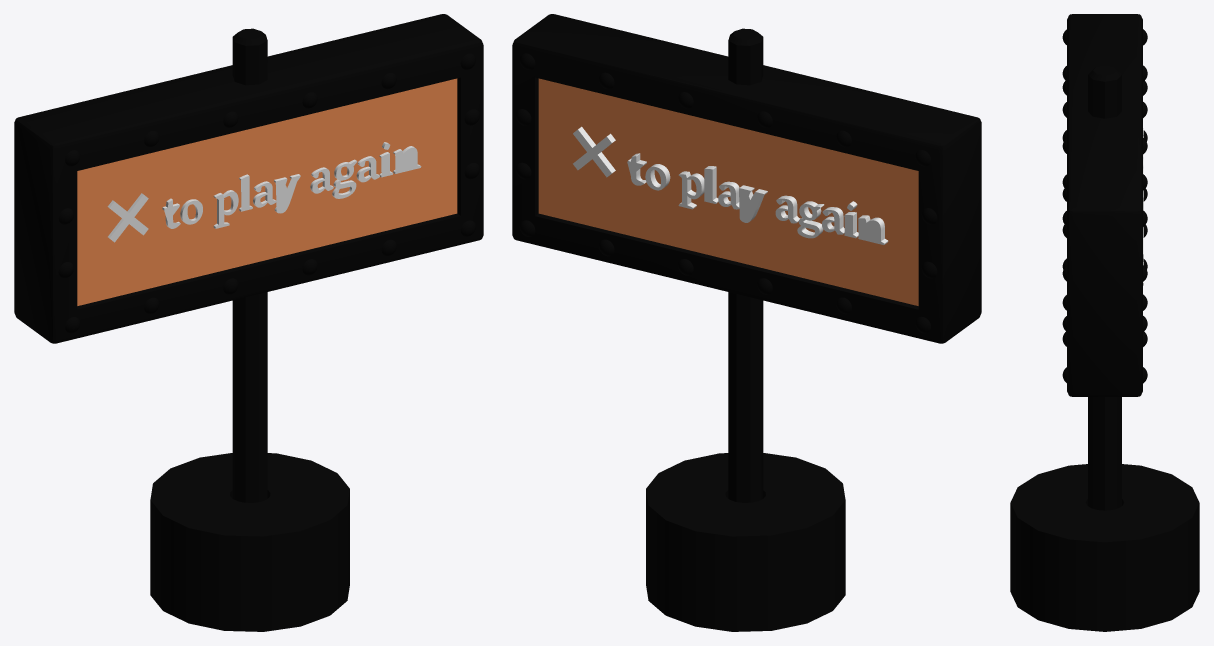
File: sign 4.fbx
3 views of the same model, side by side, from view 1: azimuth 30°, elevation 25°; view 2: azimuth 150°, elevation 25°; view 3: azimuth 270°, elevation 25° (orthographic). The views are drawn at different scales.
Parts seen in each view (by area): view 1: outer, innert, base, rod, text, Cloner_3; view 2: outer, innert, base, rod, text, Cloner_3; view 3: outer, base, rod, Cloner_3.
Boxes of the visible parts, x1,y1,x2,y2 form: outer: [14, 14, 483, 343]; innert: [77, 78, 457, 305]; base: [150, 453, 349, 631]; rod: [232, 28, 267, 502]; text: [107, 142, 421, 242]; Cloner_3: [58, 53, 479, 333]; outer: [512, 14, 981, 343]; innert: [538, 78, 918, 305]; base: [646, 453, 845, 631]; rod: [728, 28, 763, 502]; text: [573, 126, 888, 244]; Cloner_3: [516, 53, 937, 333]; outer: [1067, 14, 1142, 396]; base: [1010, 464, 1199, 631]; rod: [1088, 65, 1121, 510]; Cloner_3: [1062, 29, 1147, 383].
Size of the model in its own units: 296 by 364 by 119.
